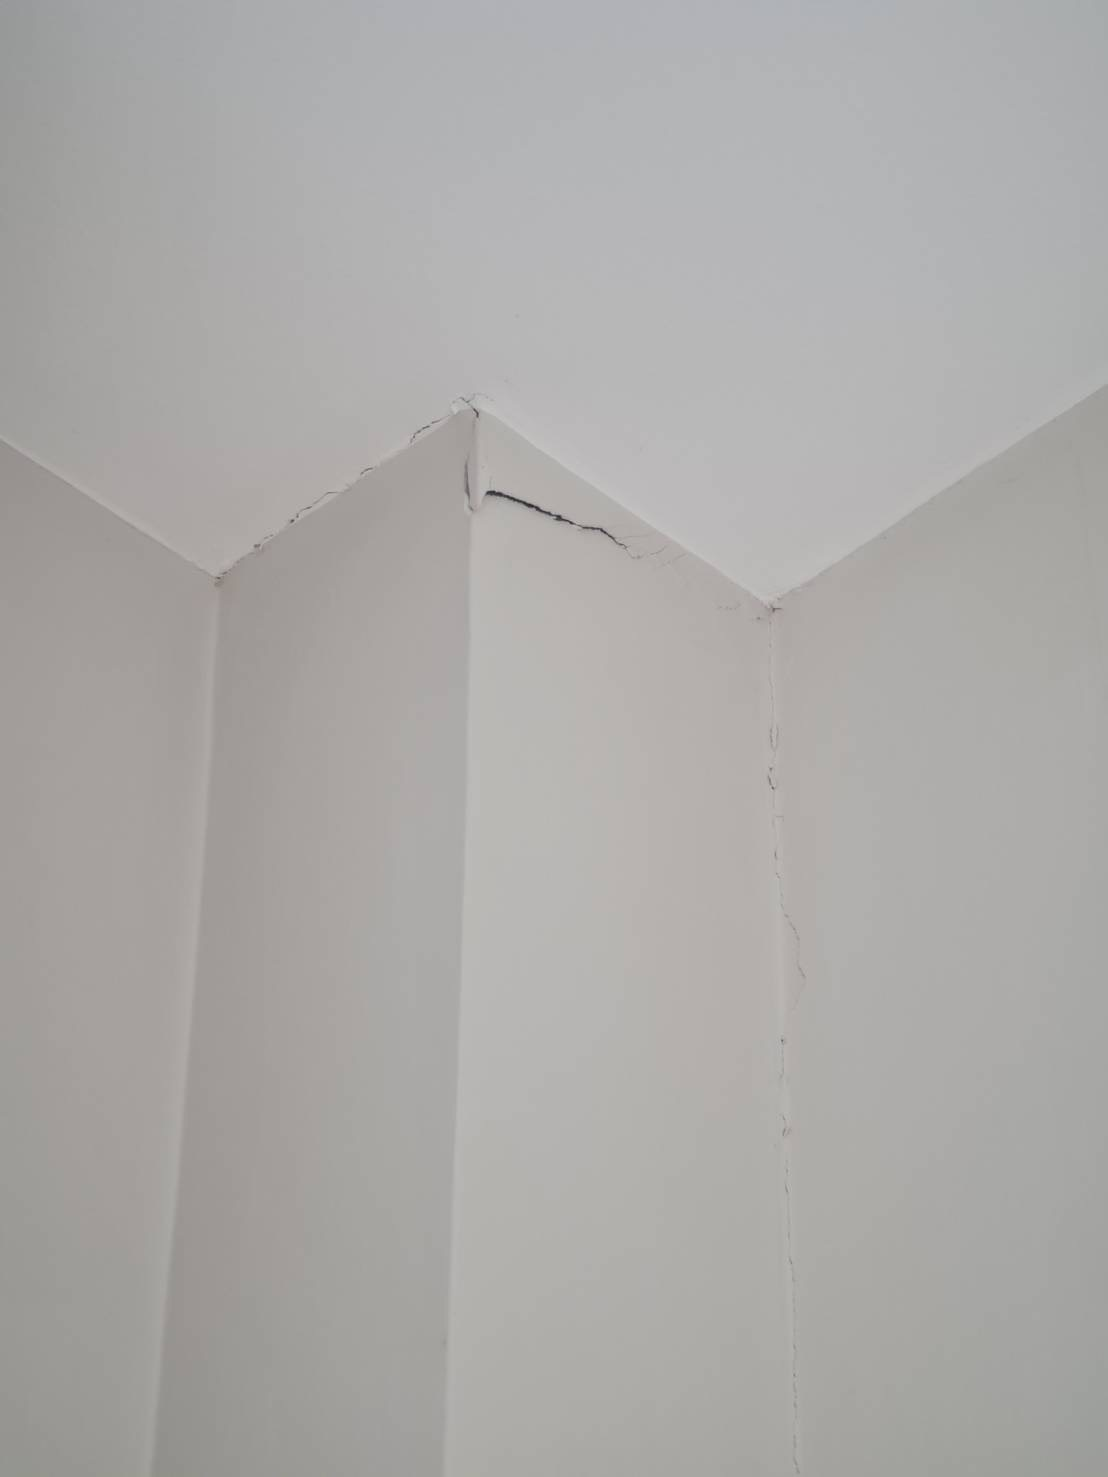Low: (379, 379, 679, 683)
